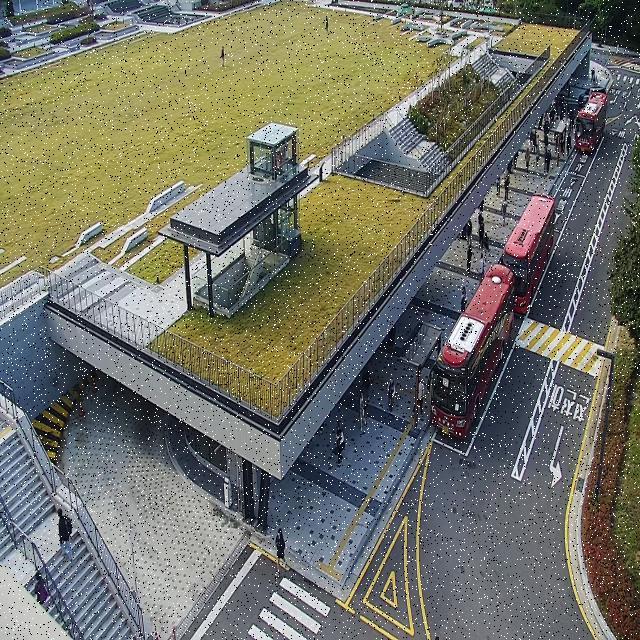queue: (415, 332, 439, 427)
